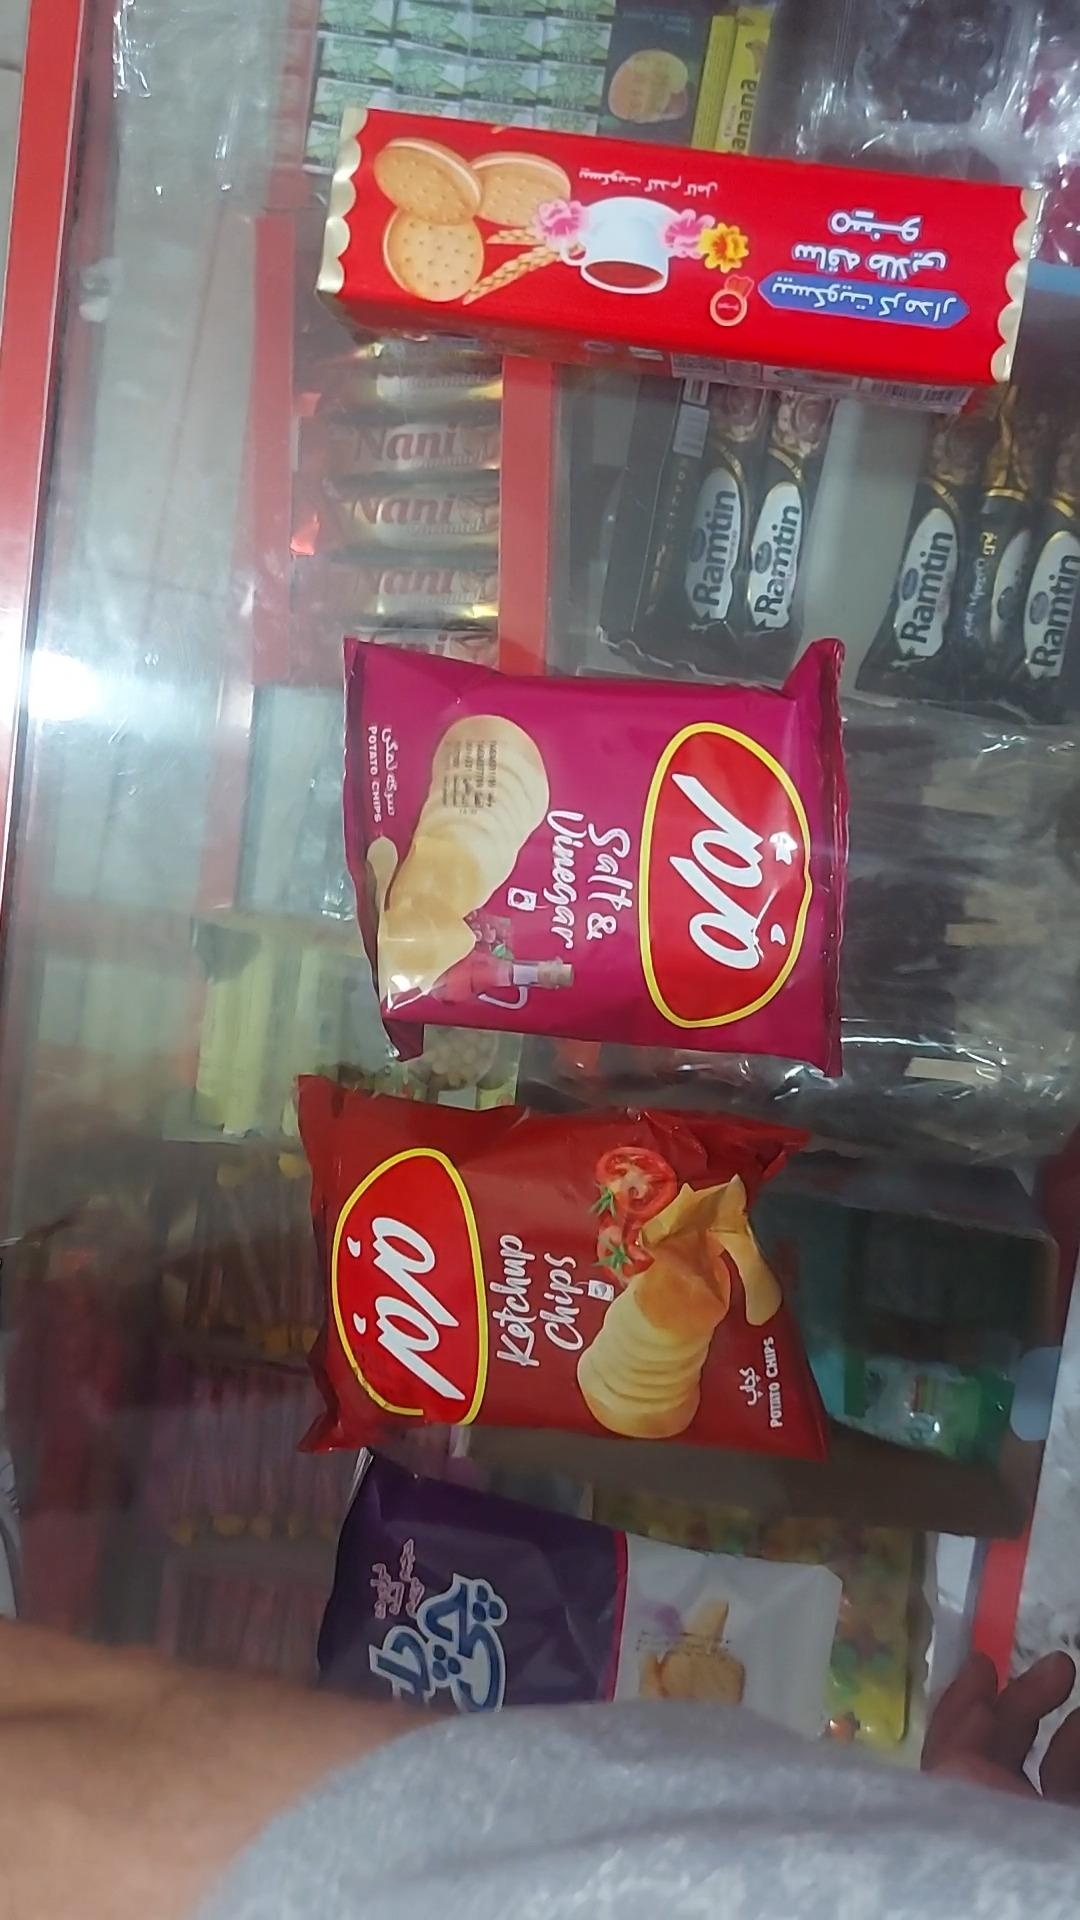Chee pellet vinegar: (318, 1458, 841, 1738)
Maz Maz ketchup chips: (298, 1076, 825, 1458)
Maz Maz vinegar chips: (343, 640, 847, 1077)
Minoo cream biscuit: (316, 108, 1038, 385)
